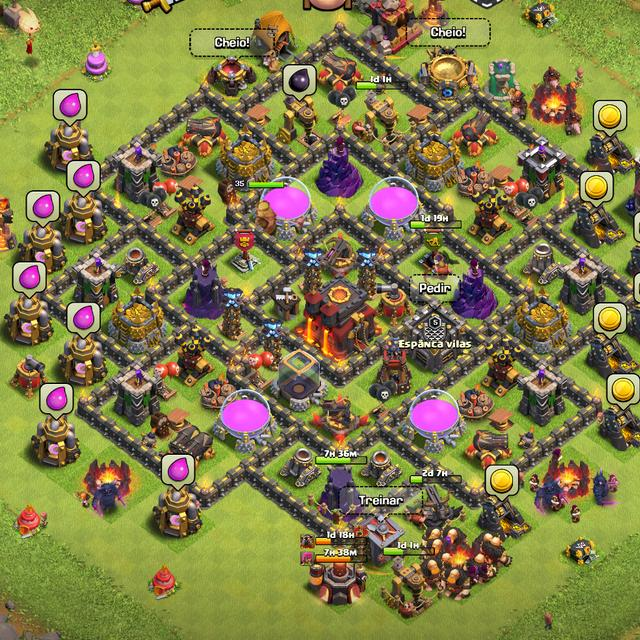Elixir: (11, 260, 48, 300), (38, 381, 75, 421), (25, 189, 61, 229), (64, 301, 102, 338), (52, 88, 88, 127), (66, 159, 101, 198), (162, 453, 196, 492)
ElixirNegro: (282, 64, 317, 102)
coin: (485, 463, 520, 502), (605, 372, 640, 411), (593, 98, 628, 137), (593, 302, 628, 340), (578, 171, 614, 207)
